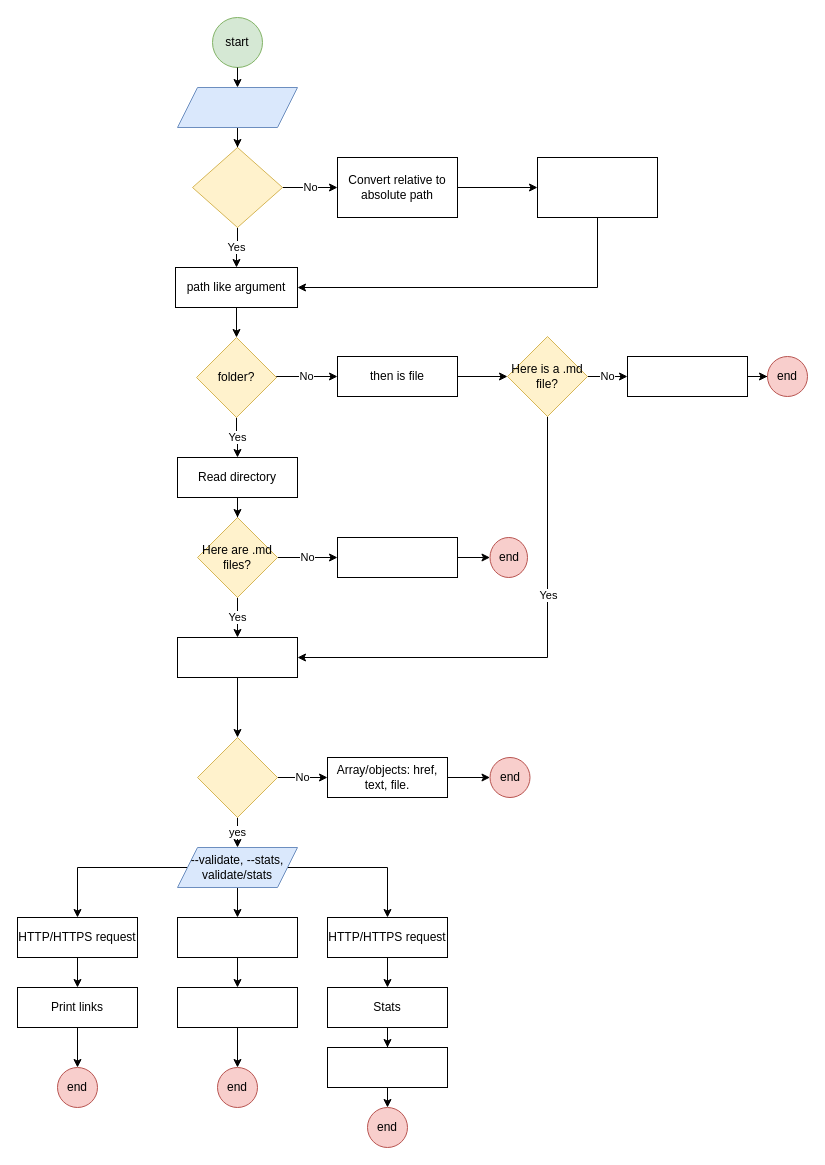
This 825x1165 diagram has some shape labels left out. Here are the shapes that lost their labels. From the top down, the box of each, then its label:
(176, 86, 298, 128): Path, options
(192, 146, 282, 228): Here is a absolute path?
(536, 156, 658, 218): Resolve relative path
(626, 356, 748, 396): reject because is not a .md file
(336, 536, 458, 578): Reject because none of them are .md file
(176, 636, 298, 678): Read files
(196, 736, 278, 818): argument options?
(176, 916, 298, 958): basic stats
(176, 986, 298, 1028): Print stats
(326, 1046, 448, 1088): print validation stats
